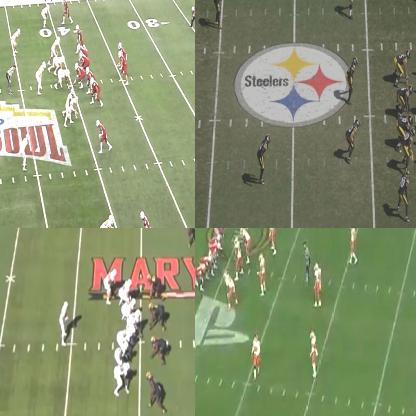CENTER: (130, 308, 146, 338), (212, 244, 223, 272), (73, 63, 84, 88)
DB: (258, 134, 271, 185), (308, 328, 320, 378), (400, 168, 411, 221), (346, 228, 360, 267), (314, 263, 323, 310), (20, 133, 30, 172), (214, 0, 226, 29), (98, 212, 115, 227), (186, 228, 194, 246), (42, 5, 49, 25)
LB: (251, 331, 264, 381), (400, 128, 415, 168), (348, 120, 358, 162), (257, 254, 267, 295), (34, 61, 46, 95), (348, 60, 358, 96), (266, 228, 277, 259), (66, 88, 74, 125), (12, 28, 22, 55), (346, 0, 360, 19), (49, 35, 60, 55)
QB: (61, 302, 70, 346), (119, 52, 129, 86)
SKILL: (96, 119, 112, 151), (116, 361, 131, 393), (137, 207, 160, 227), (105, 266, 117, 304), (62, 0, 75, 25), (118, 41, 128, 56), (76, 27, 83, 42), (213, 228, 226, 236)
